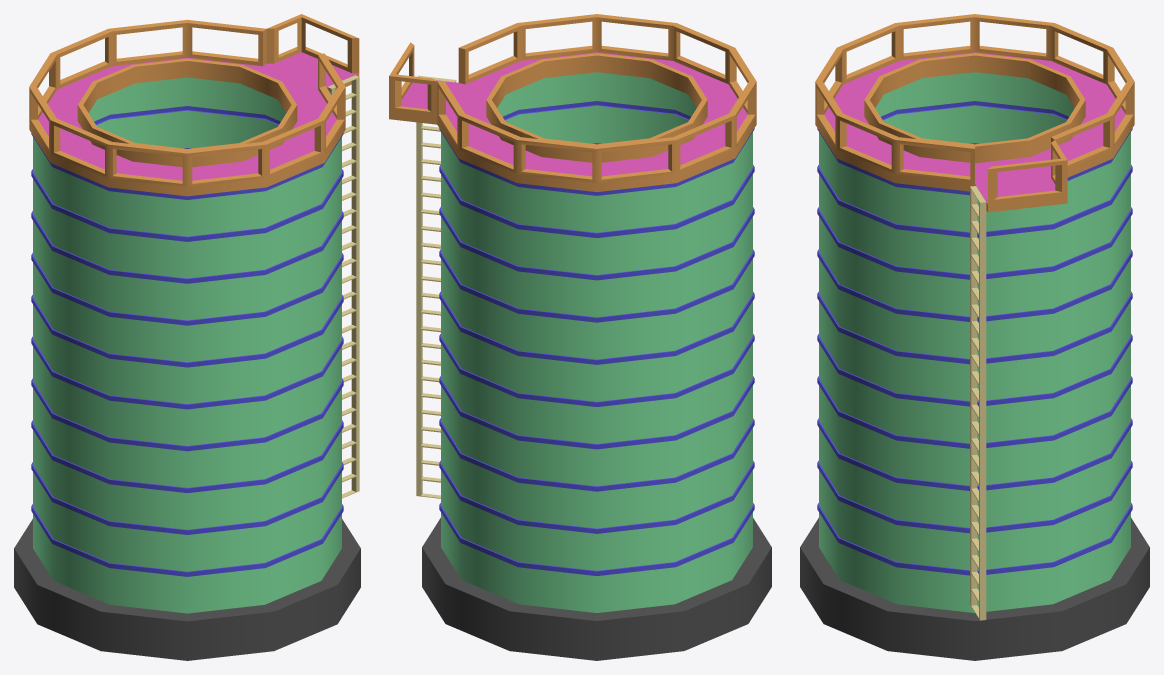
The model's file is WaterTank.fbx.
3 views of the same model, side by side, from view 1: azimuth 30°, elevation 25°; view 2: azimuth 150°, elevation 25°; view 3: azimuth 270°, elevation 25° (orthographic).
Visible parts, largest first — view 1: Tower, TopFence, Base, Ladder; view 2: Tower, TopFence, Base, Ladder; view 3: Tower, TopFence, Base, Ladder.
Part boxes in pixels (<box>): Tower: <box>31,77,343,613</box>; TopFence: <box>29,14,359,196</box>; Base: <box>14,519,360,660</box>; Ladder: <box>327,75,359,498</box>; Tower: <box>439,72,754,612</box>; TopFence: <box>389,14,756,191</box>; Base: <box>422,518,771,660</box>; Ladder: <box>416,75,456,498</box>; Tower: <box>817,72,1132,612</box>; TopFence: <box>815,14,1134,212</box>; Base: <box>800,518,1149,660</box>; Ladder: <box>970,186,986,620</box>.
Bounding box in the file's own units: 1740 × 2536 × 1591.
